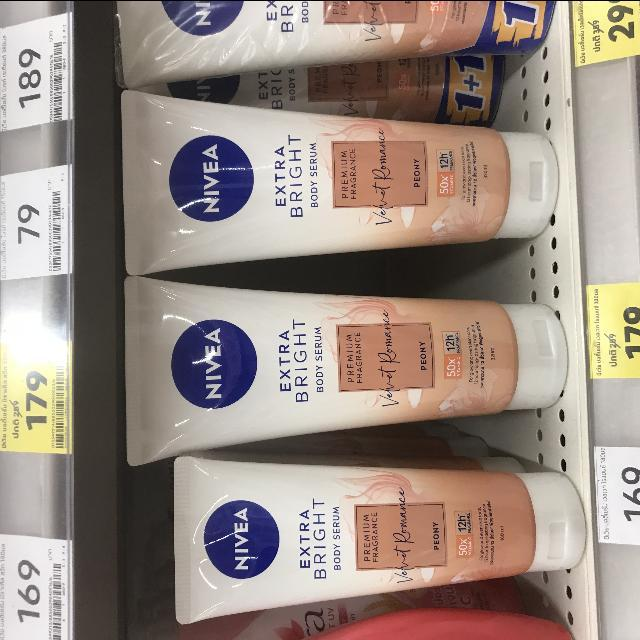Squeeze Tube: (121, 94, 560, 285), (124, 278, 568, 458), (176, 460, 594, 631), (114, 0, 556, 91)
